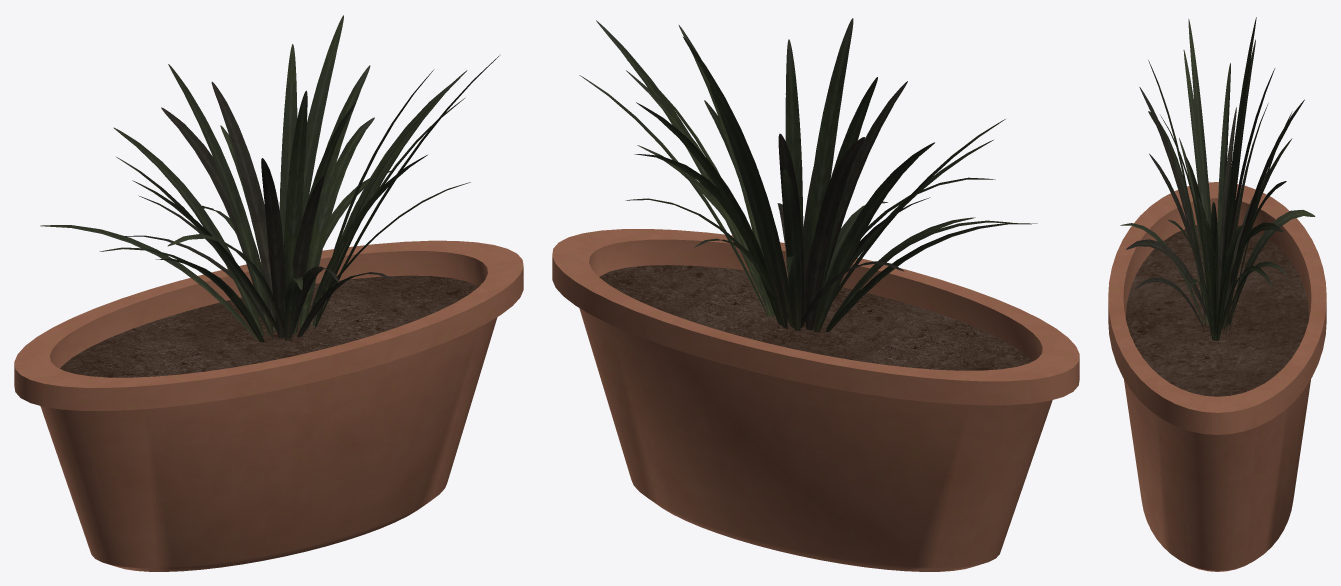
File: jardinera_terracota_100.glb
The picture shows the model from 3 angles, left to right: view 1: azimuth 30°, elevation 25°; view 2: azimuth 150°, elevation 25°; view 3: azimuth 270°, elevation 25°; orthographic projection. The views are drawn at different scales.
Parts seen in each view (by area): view 1: jardinera_terracota_100; view 2: jardinera_terracota_100; view 3: jardinera_terracota_100.
Boxes of the visible parts, x1,y1,x2,y2 form: jardinera_terracota_100: [14, 15, 523, 571]; jardinera_terracota_100: [552, 18, 1079, 571]; jardinera_terracota_100: [1108, 17, 1326, 571].
Bounding box in the file's own units: 1 × 0.9 × 0.3999.
Materials: 3 (3 with a texture image).
